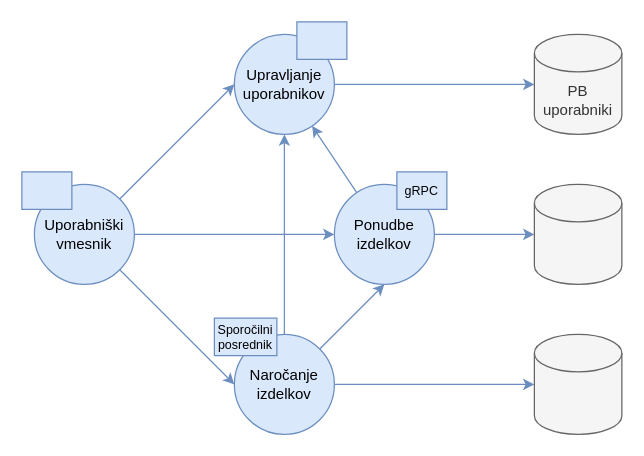
Image size: 644x456. Some labels were removed from this diagram. The centre of each missing label's shape, as x and y in pixels:
"PB izdelki" goes at (x=577, y=233).
"PB naročila" goes at (x=577, y=383).
"REST API" goes at (x=321, y=40).
"WEB" goes at (x=46, y=190).
